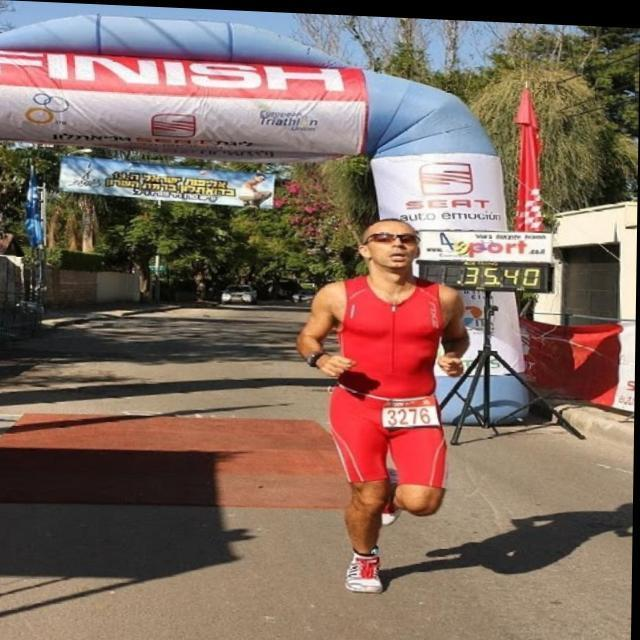dorsal: (382, 390, 442, 427)
